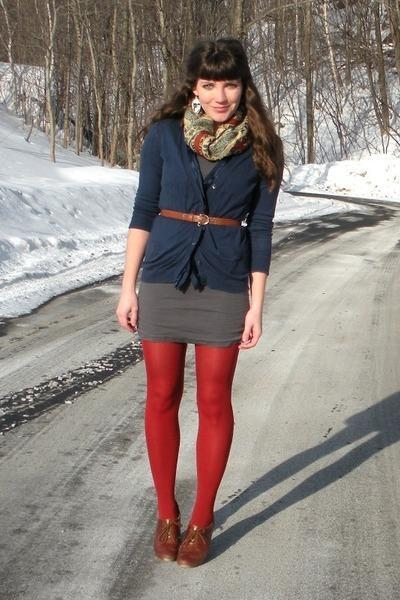jacket: (132, 110, 283, 295)
shoe: (153, 516, 224, 567)
skirt: (132, 276, 249, 347)
